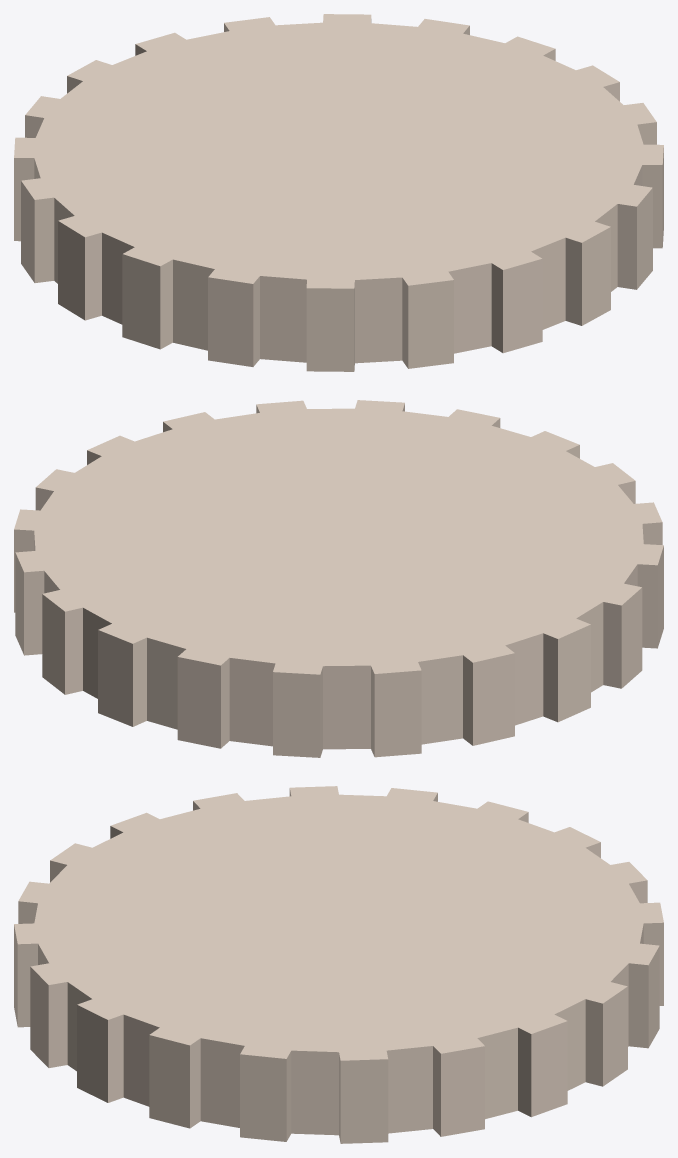
File: cog_with_20_teeth.glb
The picture shows the model from 3 angles, top to bottom: view 1: azimuth 30°, elevation 25°; view 2: azimuth 150°, elevation 25°; view 3: azimuth 270°, elevation 25°; orthographic projection.
Visible parts, largest first — view 1: Cog 20; view 2: Cog 20; view 3: Cog 20.
Part boxes in pixels (x1=…): Cog 20: x1=14, y1=14, x2=663, y2=371; Cog 20: x1=14, y1=400, x2=663, y2=757; Cog 20: x1=14, y1=786, x2=663, y2=1143.
Size of the model in its own units: 1.46 by 0.2055 by 1.46.
